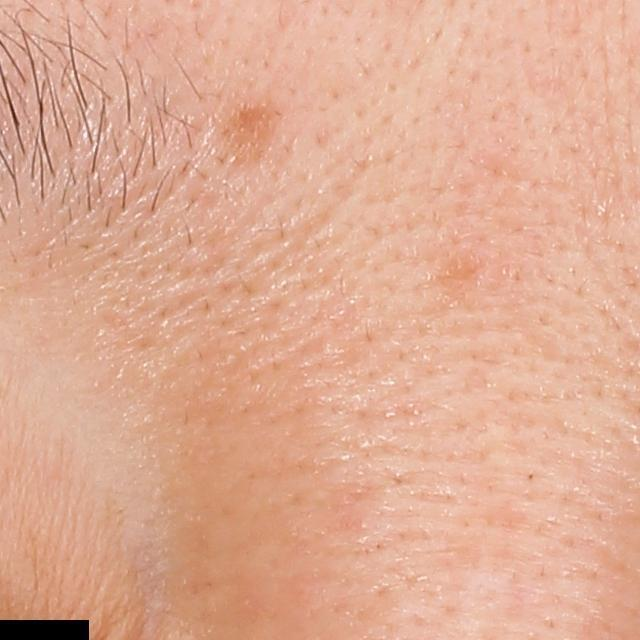melasma: (207, 99, 279, 176)
